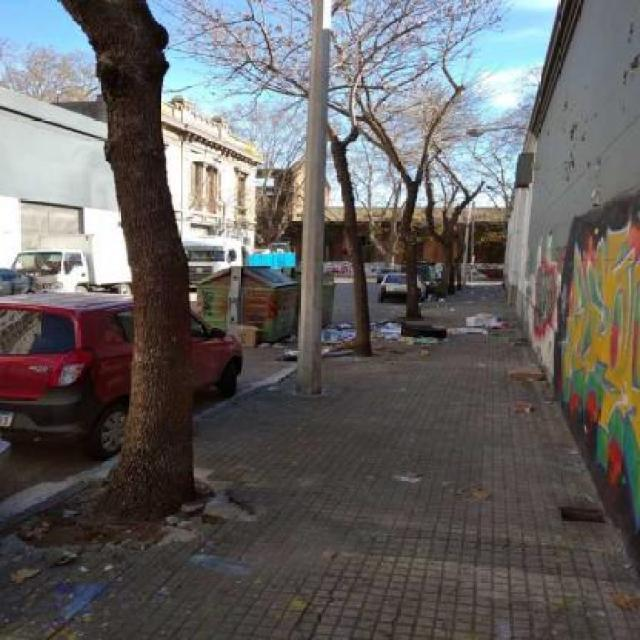garbage: (363, 463, 509, 508), (328, 312, 522, 344), (505, 354, 565, 442), (265, 326, 351, 364), (229, 317, 274, 351)
